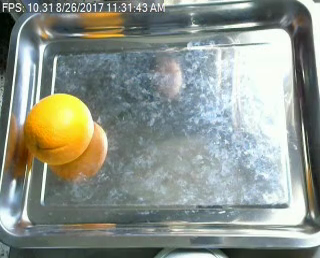Orange: (22, 92, 94, 166)
